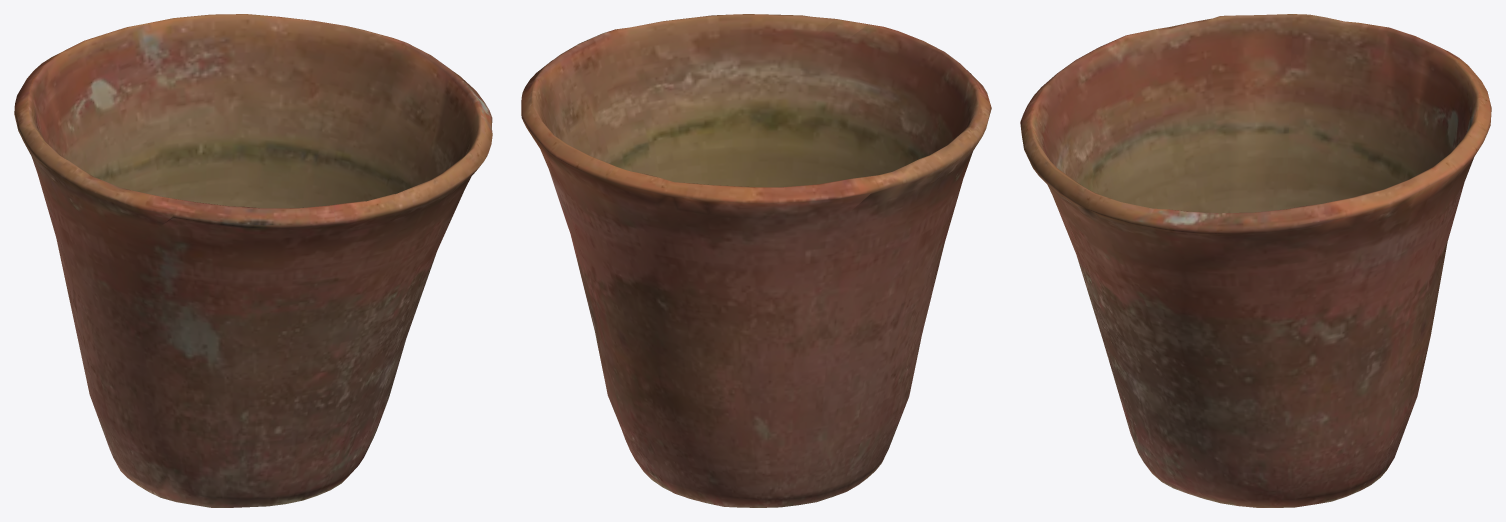
The model's file is planter_pot_clay.glb.
3 views of the same model, side by side, from view 1: azimuth 30°, elevation 25°; view 2: azimuth 150°, elevation 25°; view 3: azimuth 270°, elevation 25° (orthographic).
Visible parts, largest first — view 1: planter_pot_clay; view 2: planter_pot_clay; view 3: planter_pot_clay.
Part boxes in pixels (<box>): planter_pot_clay: <box>14,14,492,507</box>; planter_pot_clay: <box>521,14,991,507</box>; planter_pot_clay: <box>1020,14,1491,507</box>.
Size of the model in its own units: 0.266 by 0.2218 by 0.2635.
1 material, 1 textured.
